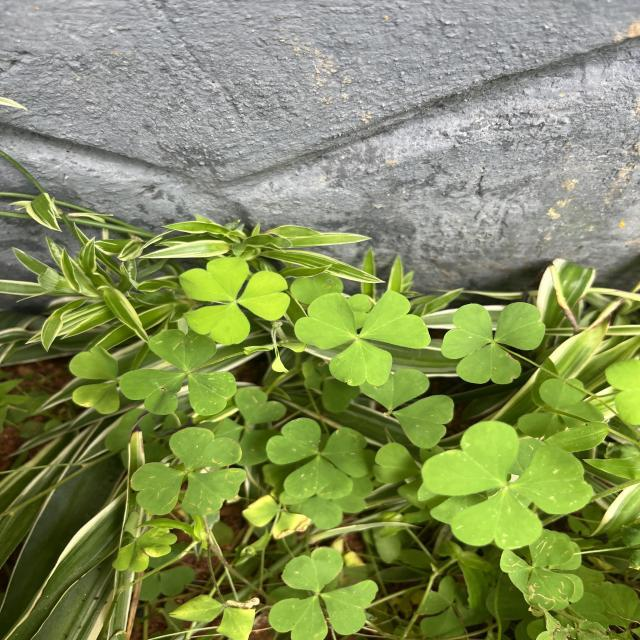Oxalis corniculata: (421, 418, 594, 551), (294, 288, 432, 387), (130, 426, 247, 516), (268, 546, 380, 640), (119, 328, 238, 416), (178, 255, 292, 346), (265, 416, 377, 499), (440, 301, 547, 385)
